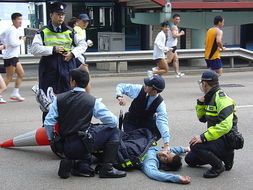10+: (1, 1, 249, 178)
down: (112, 123, 196, 186)
